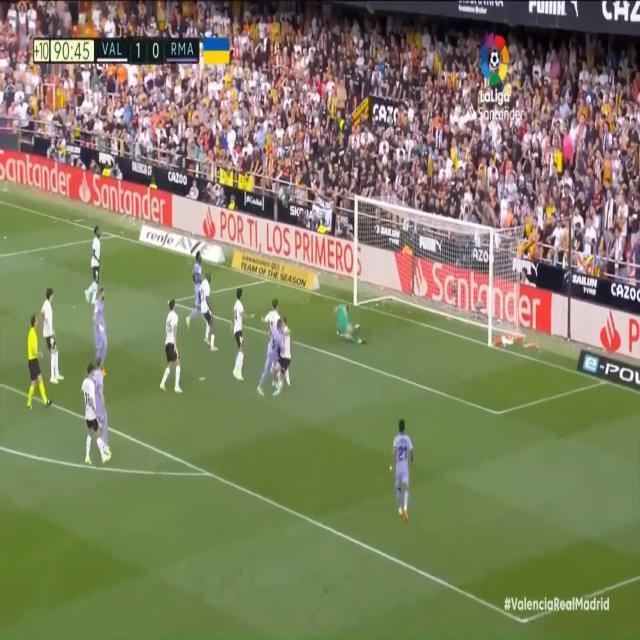goalkeeper: (332, 294, 363, 348)
player: (79, 361, 105, 469), (158, 295, 182, 396), (257, 319, 287, 399), (393, 417, 415, 522), (231, 280, 253, 383), (42, 282, 63, 388), (183, 251, 206, 333), (92, 354, 109, 460), (84, 223, 103, 311), (92, 283, 109, 378), (270, 292, 283, 390), (282, 313, 296, 403), (201, 270, 216, 350)
referee: (25, 312, 55, 412)
